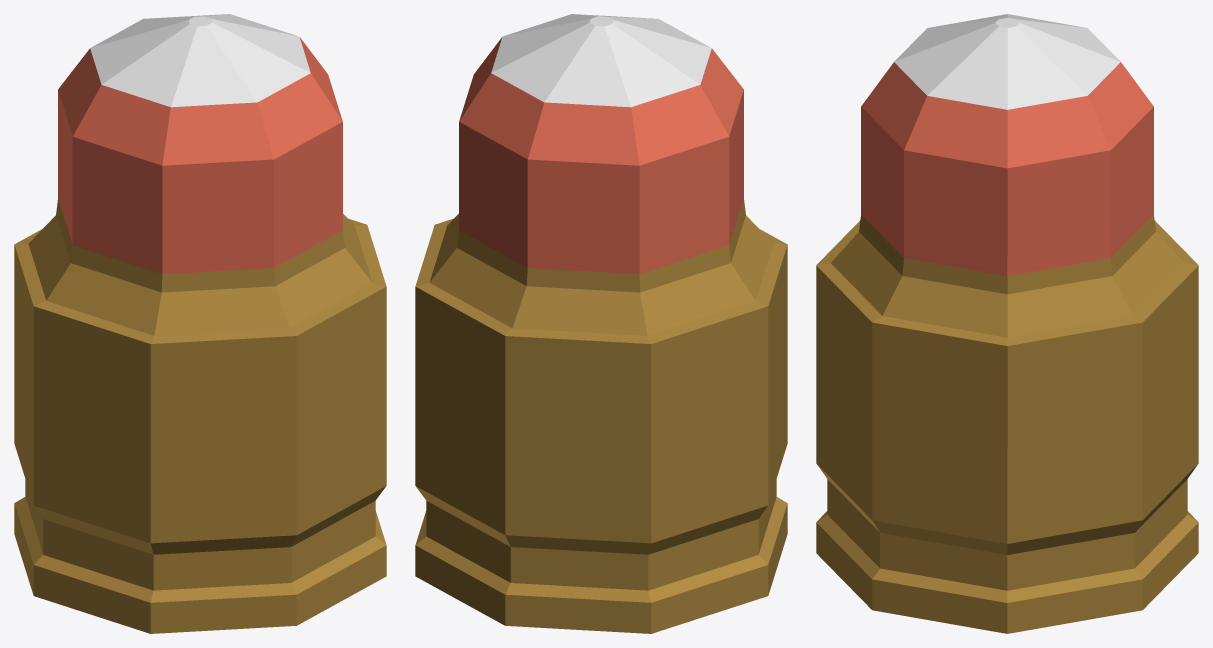
The model's file is HollowBulletAndBullet.fbx.
3 renders of one model, left to right at view 1: azimuth 30°, elevation 25°; view 2: azimuth 150°, elevation 25°; view 3: azimuth 270°, elevation 25°, orthographic.
Parts seen in each view (by area): view 1: HollowBullet, Bullet; view 2: HollowBullet, Bullet; view 3: HollowBullet, Bullet.
Part boxes in pixels (x1,y1,x2,y2): HollowBullet: (14, 198, 386, 633); Bullet: (58, 14, 342, 274); HollowBullet: (415, 198, 787, 633); Bullet: (459, 14, 743, 274); HollowBullet: (816, 214, 1198, 633); Bullet: (861, 14, 1153, 275).
Bounding box in the file's own units: 115 × 175 × 115.
